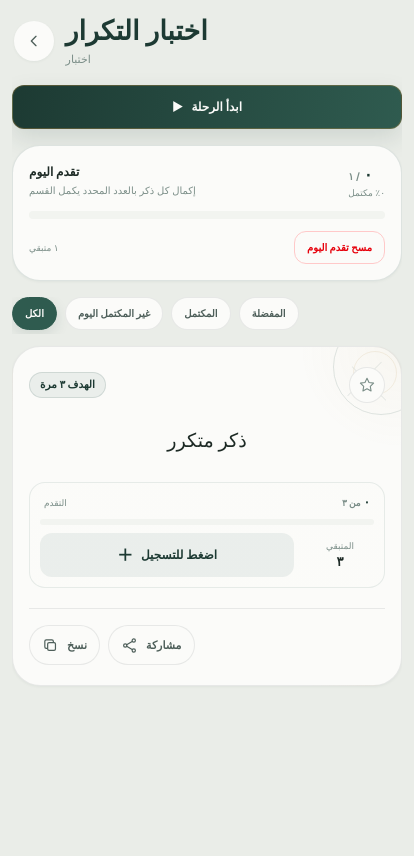
Test: feature views › shows repeat progress while counting a repeated zikr
Click the button with aria-label "تسجيل مرة من الذكر" at (167,555), box x1=40 y1=533 x2=294 y2=577
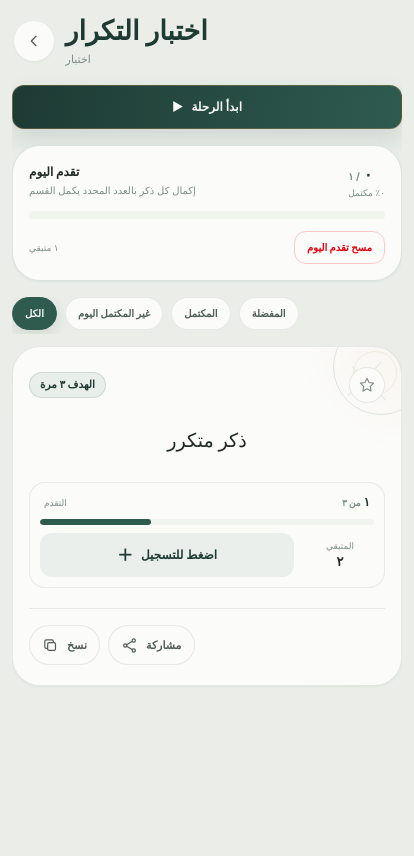
Check: the text "المتبقي" is shown, box x1=326 y1=540 x2=354 y2=551
Check: the progress indicator named "تقدم الذكر: 1 من 3" is shown, box x1=40 y1=519 x2=374 y2=525
